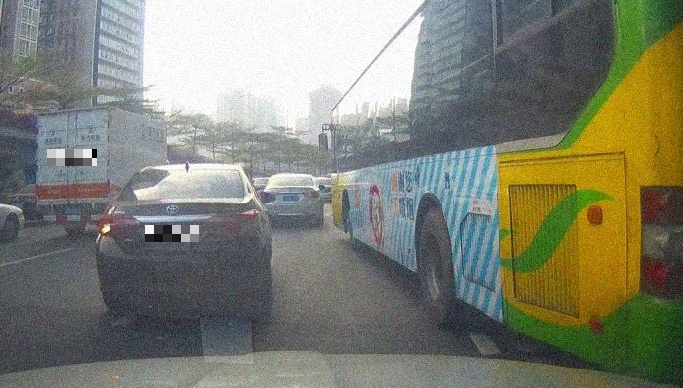L_light: (97, 214, 142, 237)
R_light: (208, 210, 260, 236)
T_light: (164, 193, 188, 199)
day-left: (95, 164, 263, 318)
plate_1: (47, 149, 97, 166)
plate_2: (145, 225, 199, 242)
